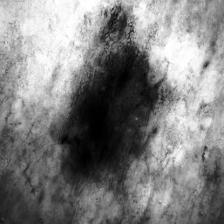Benign Marking or Mole: (60, 3, 157, 180)
